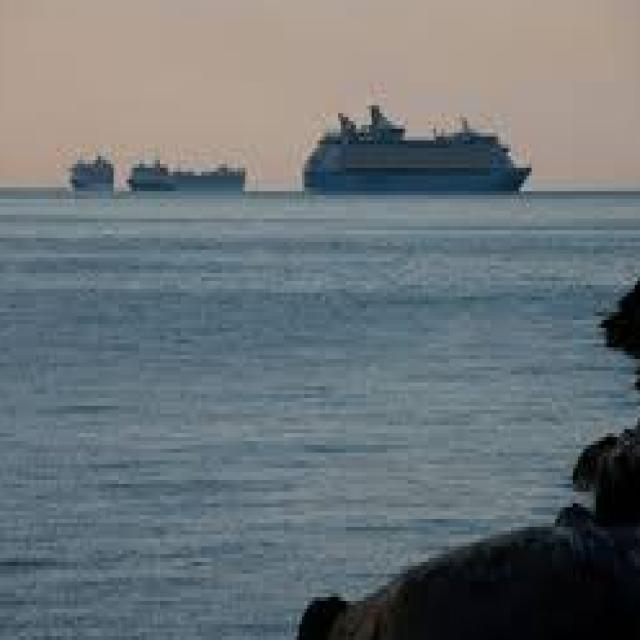cargoship: (291, 89, 527, 210), (128, 129, 256, 201), (72, 138, 120, 208)
